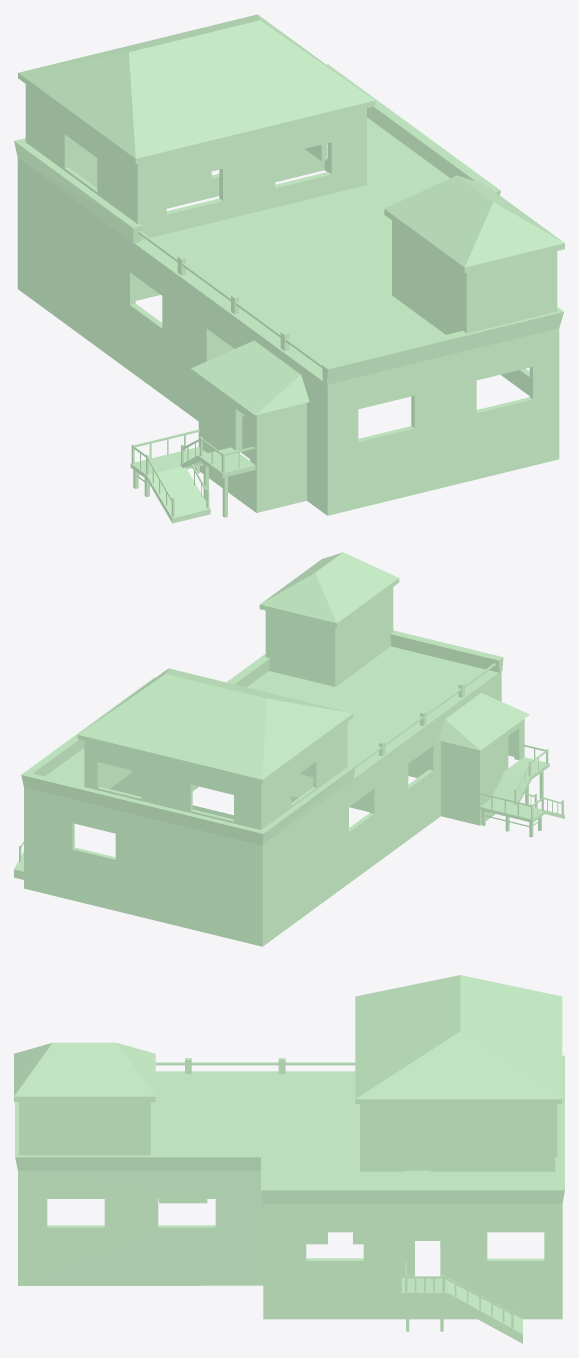
3 views of the same model, one above another, from view 1: azimuth 30°, elevation 25°; view 2: azimuth 150°, elevation 25°; view 3: azimuth 270°, elevation 25° (orthographic). The views are drawn at different scales.
Visible parts, largest first — view 1: house_suburbs2_col; view 2: house_suburbs2_col; view 3: house_suburbs2_col.
Boxes of the visible parts, x1=… form: house_suburbs2_col: x1=14, y1=14, x2=564, y2=523; house_suburbs2_col: x1=14, y1=552, x2=564, y2=946; house_suburbs2_col: x1=14, y1=975, x2=564, y2=1343.
Bounding box in the file's own units: 27.94 × 15.97 × 32.72.
